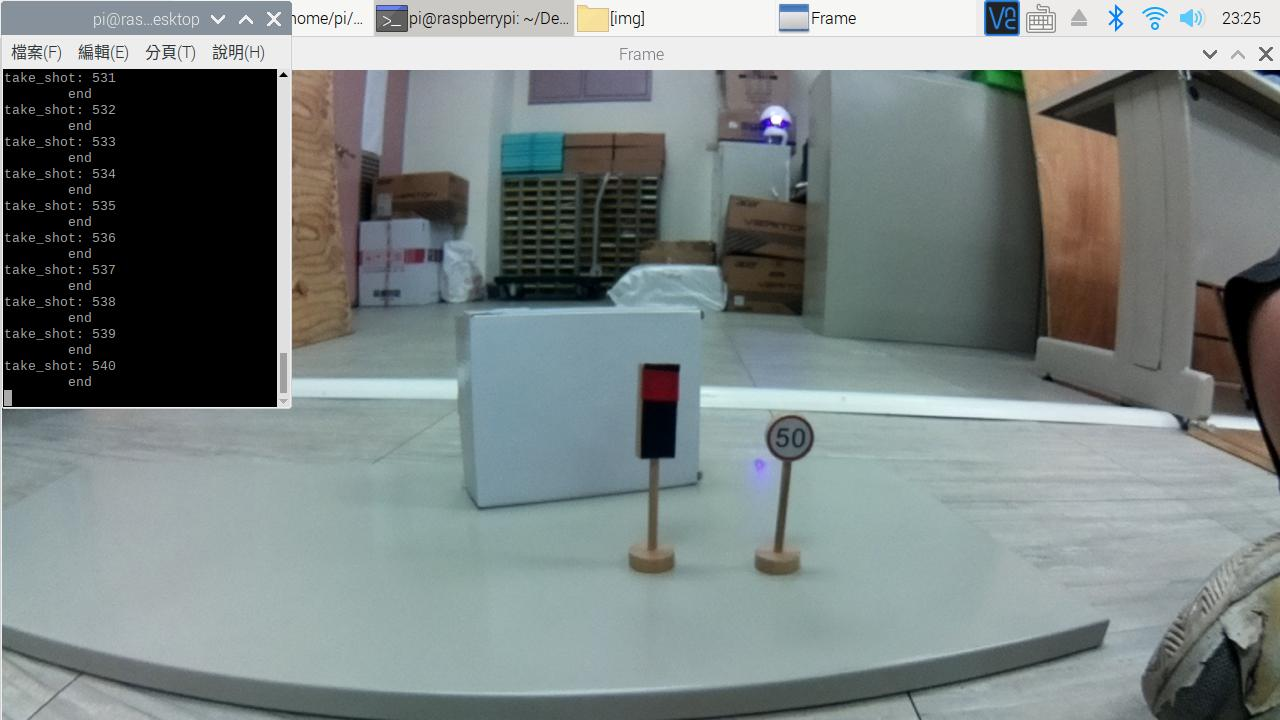Red: (633, 351, 686, 475)
Speed50: (755, 414, 833, 465)
